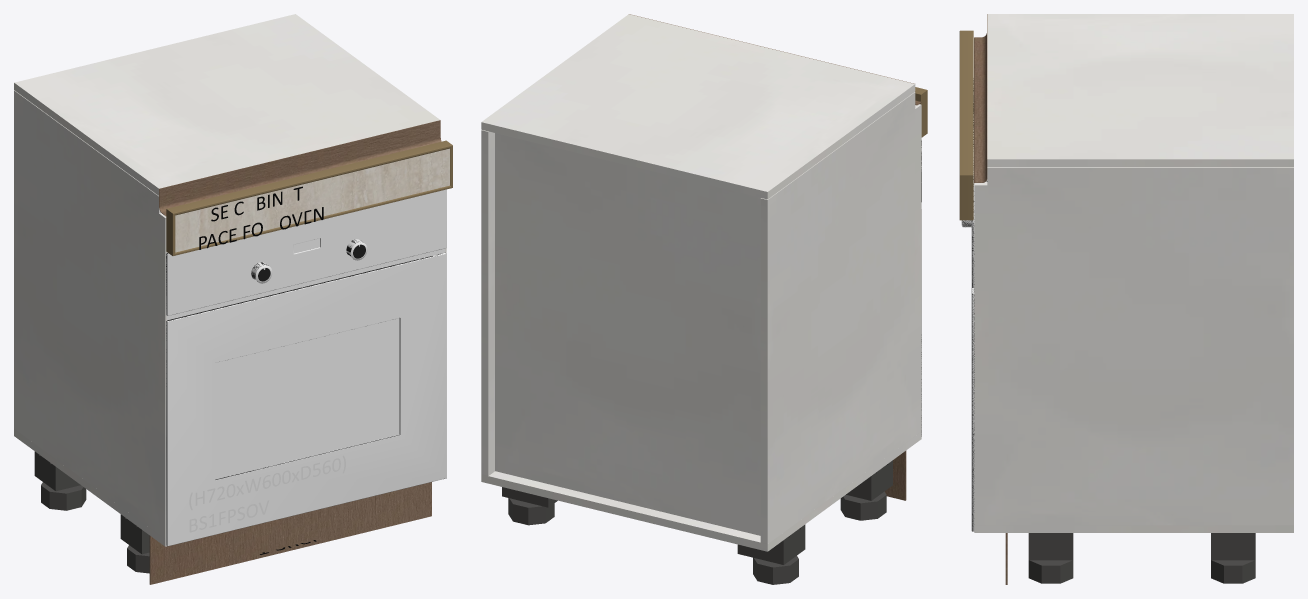
The model's file is BC-AP-CJ-ST-OVN-1FP-XXX-600-720-560-15.glb.
3 renders of one model, left to right at view 1: azimuth 30°, elevation 25°; view 2: azimuth 150°, elevation 25°; view 3: azimuth 270°, elevation 25°, orthographic. The views are drawn at different scales.
Parts seen in each view (by area): view 1: SKP_Component1, TP_node, TP_node_1, Object_node_13, Object_node_11, ExtrSplGeo, Extrusion, SKP_Component2, SKP_Component3, 2D text_node, TP, 2D text (+6 smaller); view 2: TP_node_2, TP_node, TP_node_1, TP, TP_node_0, Plate, Foot_node_0, Foot, Foot_node, Plate_node_0, Object_node_13; view 3: TP_node_0, TP_node_1, TP, Extrusion, ExtrSplGeo, Plate_node_1, Plate_node, SKP_Component3, Foot_node_1, Foot_node, Extrusion_node, SKP_Component5.
Part boxes in pixels (bbox=[...]): SKP_Component1: bbox=[167, 189, 446, 545]; TP_node: bbox=[14, 90, 167, 539]; TP_node_1: bbox=[14, 14, 439, 195]; Object_node_13: bbox=[149, 482, 431, 584]; Object_node_11: bbox=[175, 148, 449, 252]; ExtrSplGeo: bbox=[159, 120, 441, 216]; Extrusion: bbox=[166, 140, 452, 215]; SKP_Component2: bbox=[167, 189, 446, 321]; SKP_Component3: bbox=[166, 242, 446, 546]; 2D text_node: bbox=[189, 455, 345, 532]; TP: bbox=[14, 429, 166, 546]; 2D text: bbox=[199, 186, 323, 249]; TP_node_2: bbox=[495, 133, 760, 535]; TP_node: bbox=[760, 92, 921, 544]; TP_node_1: bbox=[481, 14, 915, 199]; TP: bbox=[481, 432, 921, 551]; TP_node_0: bbox=[481, 130, 494, 475]; Plate: bbox=[737, 524, 805, 564]; Foot_node_0: bbox=[840, 491, 886, 520]; Foot: bbox=[753, 556, 798, 584]; Foot_node: bbox=[508, 498, 554, 525]; Plate_node_0: bbox=[846, 460, 892, 500]; Object_node_13: bbox=[884, 450, 906, 500]; TP_node_0: bbox=[974, 167, 1293, 525]; TP_node_1: bbox=[987, 14, 1293, 166]; TP: bbox=[974, 525, 1293, 532]; Extrusion: bbox=[959, 30, 973, 175]; ExtrSplGeo: bbox=[974, 14, 987, 183]; Plate_node_1: bbox=[1028, 533, 1073, 560]; Plate_node: bbox=[1211, 533, 1255, 560]; SKP_Component3: bbox=[961, 78, 987, 531]; Foot_node_1: bbox=[1028, 560, 1073, 583]; Foot_node: bbox=[1211, 560, 1255, 583]; Extrusion_node: bbox=[959, 175, 973, 220]; SKP_Component5: bbox=[972, 80, 987, 531].
Size of what is drawn, in the model's own units: 0.6 by 0.82 by 0.5899.
9 materials, 3 textured.
